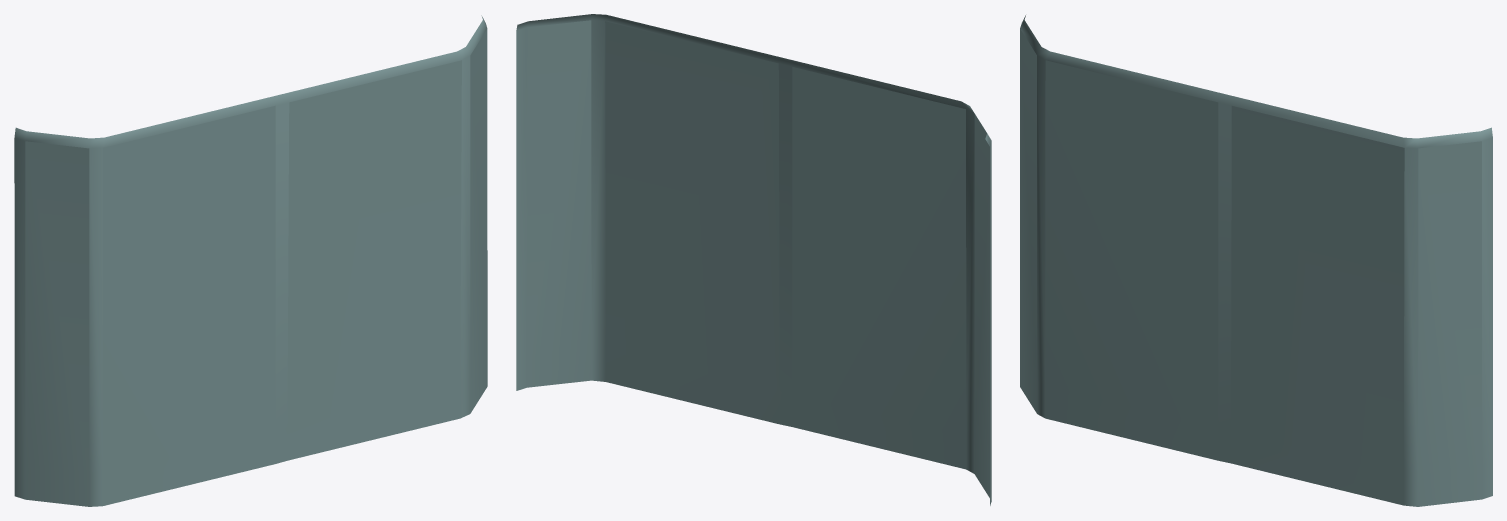
File: GlassWindow.fbx
The picture shows the model from 3 angles, left to right: view 1: azimuth 30°, elevation 25°; view 2: azimuth 150°, elevation 25°; view 3: azimuth 330°, elevation 25°; orthographic projection.
Parts seen in each view (by area): view 1: pasted__SpaceGlass1; view 2: pasted__SpaceGlass1; view 3: pasted__SpaceGlass1.
Part boxes in pixels (left/top/right/bottom): pasted__SpaceGlass1: left=14, top=15, right=487, bottom=506; pasted__SpaceGlass1: left=516, top=14, right=991, bottom=505; pasted__SpaceGlass1: left=1020, top=15, right=1492, bottom=506.
Bounding box in the file's own units: 4.04 × 3 × 0.506.
